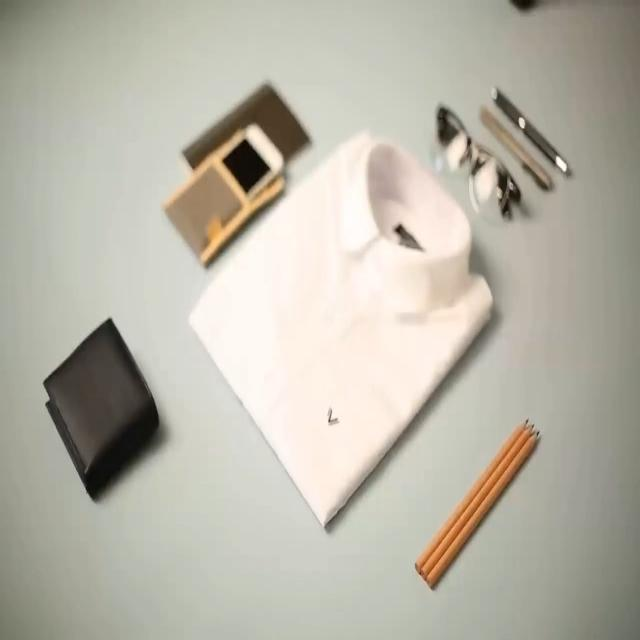Shirt: (187, 127, 493, 530)
